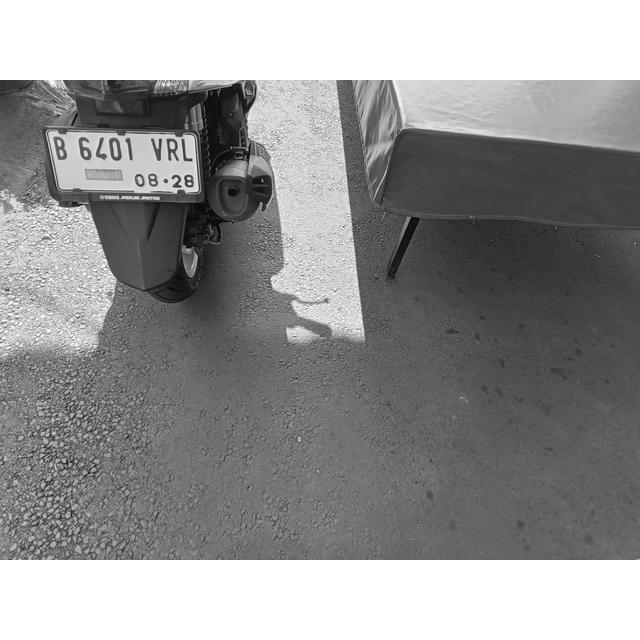license: (51, 133, 196, 192)
